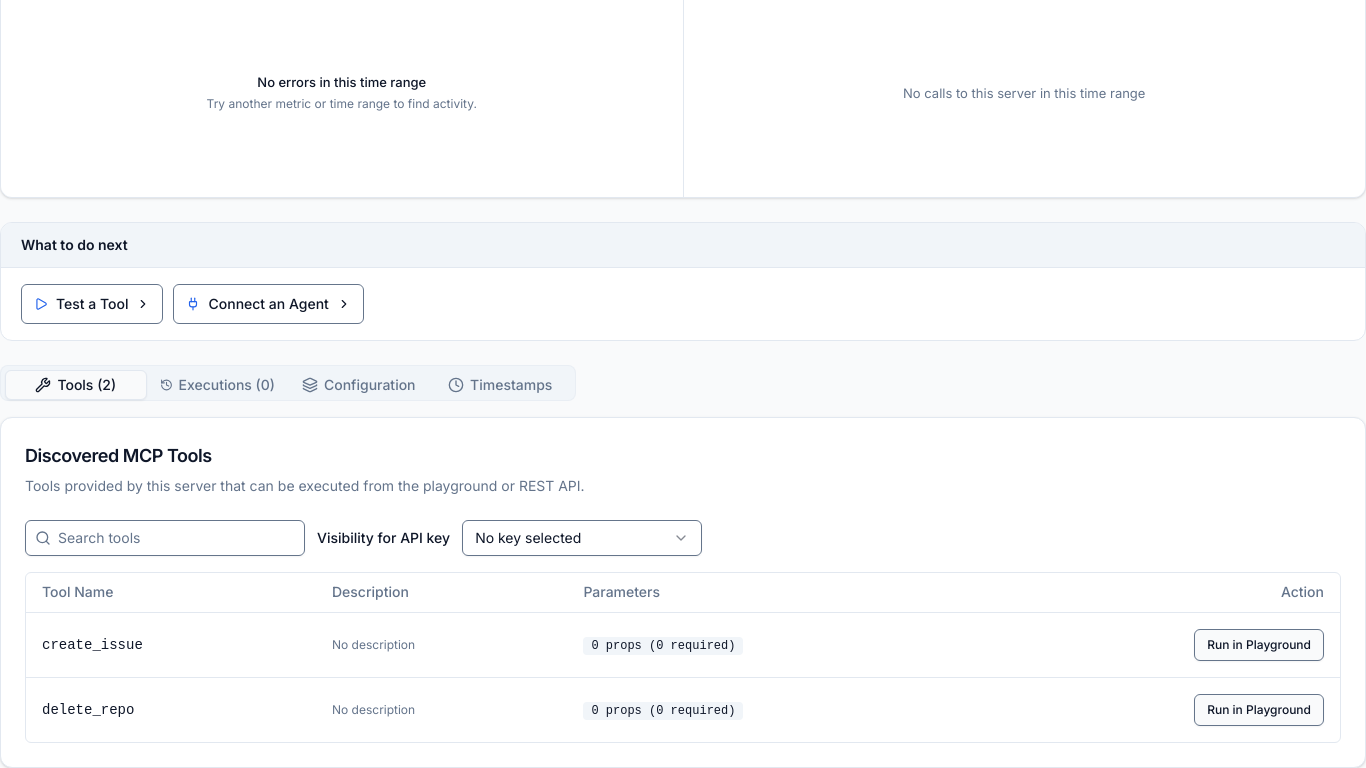
Test: Server detail per-API-key tool visibility › loads the chosen key's settings and marks the hidden tool
(page scrolled)
Click the dropdown named "Visibility for API key". click: (582, 538)
box: [462,520,702,556]
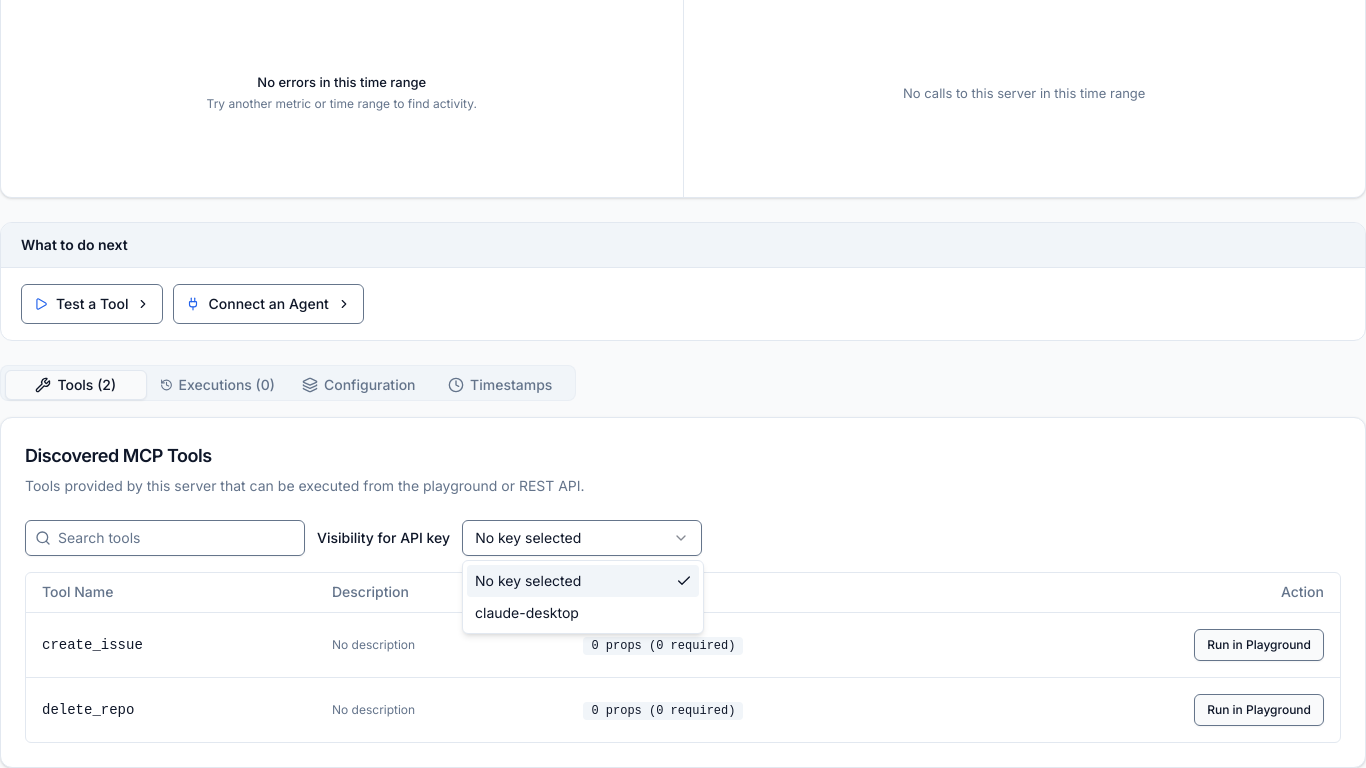
Click the option "claude-desktop". click: (527, 612)
box: [475,604,579,621]
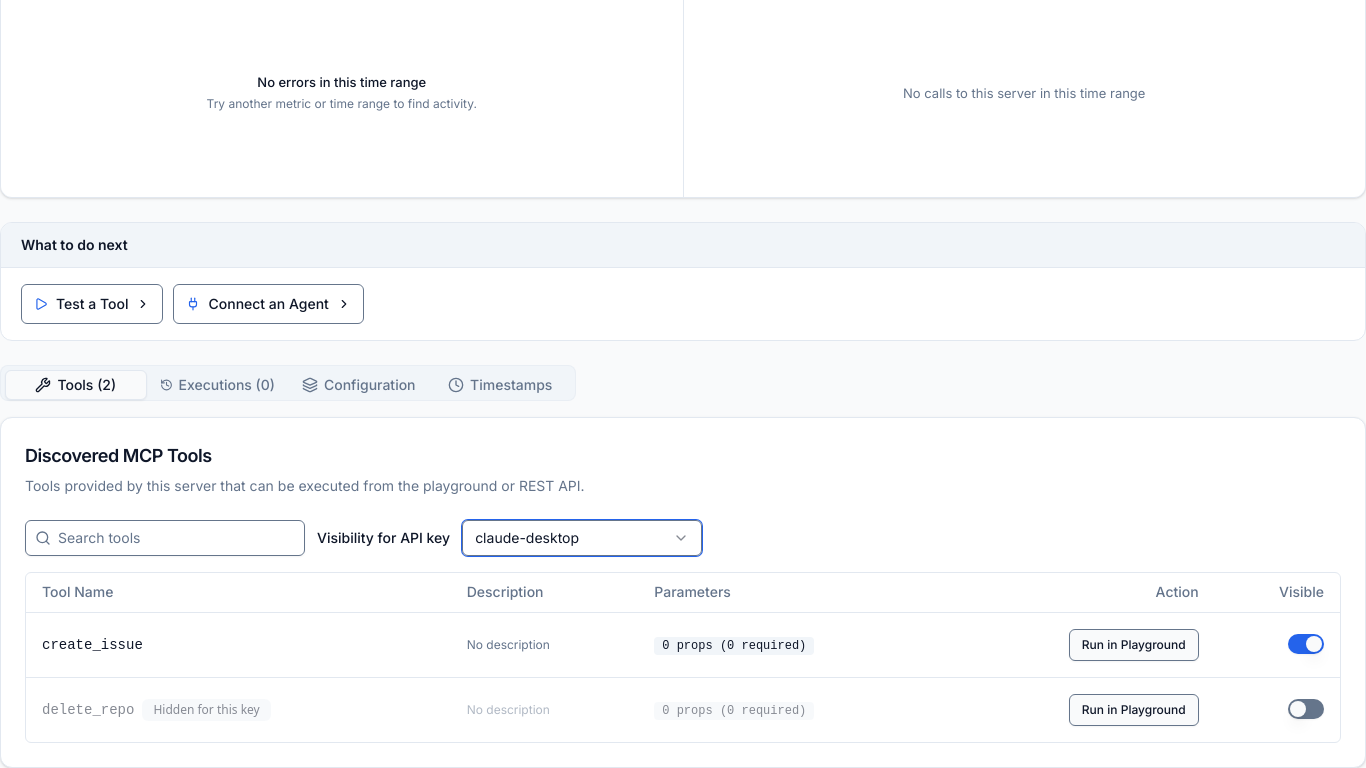
expect the text "Hidden for this key" shows "delete_repo": met, box [42,702,134,718]
expect the number of switches named "Visible to claude-desktop" is 2: met, box [1288,634,1324,654]; [1288,698,1324,718]
expect the text "Hidden for this key" is shown once: met, box [142,699,271,721]
